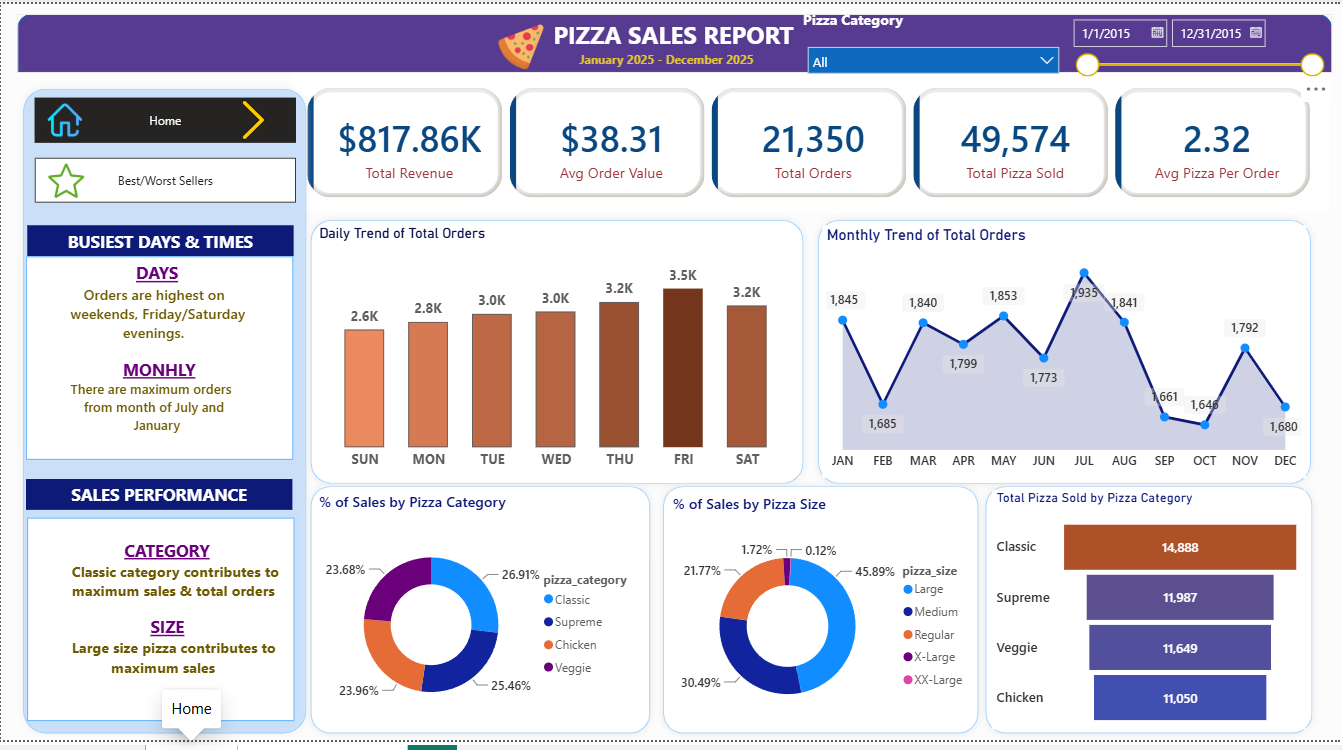

The dashboard page shown, as its layout file describes it:
{"tool":"powerbi","page":{"name":"Home","canvas":[1500,820],"ordinal":0},"visuals":[{"type":"cardVisual","fields":{"Data":["pizza_sales.Total Revenue","pizza_sales.Avg Order Value","pizza_sales.Total Orders","pizza_sales.Total Pizza Sold","pizza_sales.Avg Pizza Per Order"]},"box":[325,76.2,1155,156.2],"z":0},{"type":"shape","box":[17.5,11.2,1465,65],"z":1000},{"type":"textbox","box":[596.2,11.2,306.2,46.2],"z":2000},{"type":"textbox","box":[638.8,47.5,208.8,38.8],"z":3000},{"type":"image","box":[552.5,15,52.5,65],"z":4000},{"type":"shape","box":[337.5,232.5,565,310],"z":5000},{"type":"columnChart","title":"Daily Trend of Total Orders","fields":{"Category":["pizza_sales.Order Day"],"Y":["pizza_sales.Total Orders"]},"box":[349.6,246.5,539,281.3],"z":6000},{"type":"shape","box":[902.5,232.6,565,310],"z":7000},{"type":"shape","box":[17.1,85.7,331.4,734.3],"z":8000},{"type":"areaChart","title":"Monthly Trend of Total Orders","fields":{"Category":["pizza_sales.Order Month"],"Y":["pizza_sales.Total Orders"]},"box":[915,246.5,539,281.3],"z":9000},{"type":"shape","box":[337.1,528.6,394.3,291.4],"z":10000},{"type":"shape","box":[730,528.6,367.1,291.4],"z":11000},{"type":"shape","box":[1088.6,528.6,380,291.4],"z":12000},{"type":"donutChart","title":"% of Sales by Pizza Category","fields":{"Category":["pizza_sales.pizza_category"],"Y":["pizza_sales.Total Revenue"]},"box":[350,542.9,368.6,264.3],"z":13000},{"type":"donutChart","title":"% of Sales by Pizza Size","fields":{"Y":["pizza_sales.Total Revenue"],"Category":["pizza_sales.pizza_size"]},"box":[743.3,544.4,345.6,264.4],"z":14000},{"type":"funnel","title":"Total Pizza Sold by Pizza Category","fields":{"Category":["pizza_sales.pizza_category"],"Y":["pizza_sales.Total Pizza Sold"]},"box":[1104.4,542.2,348.9,266.7],"z":15000},{"type":"textbox","box":[28.9,246.7,296.7,34.4],"z":16000},{"type":"textbox","box":[27.8,281.1,297.8,226.7],"z":17000},{"type":"textbox","box":[28.9,572.2,297.8,226.7],"z":18000},{"type":"textbox","box":[27.8,528.9,296.7,34.4],"z":19000},{"type":"slicer","fields":{"Values":["pizza_sales.order_date"]},"box":[1182.9,7.1,300,74.3],"z":20000},{"type":"slicer","title":"Pizza Category","fields":{"Values":["pizza_sales.pizza_category"]},"box":[889,6,300,72],"z":21000},{"type":"pageNavigator","box":[37.1,104.3,291.4,50],"z":21001},{"type":"pageNavigator","box":[37.1,171.4,291.4,50],"z":21002},{"type":"image","box":[27.1,110,90,38.6],"z":21003},{"type":"image","box":[32.9,177.1,78.6,40],"z":21004},{"type":"image","box":[234.3,107.1,94.3,44.3],"z":21005}]}

Visuals, with their boxes on the page's 1500x820 design canvas (x1, y1, x2, y2). These are canvas units, not pixel positions in the 1342x750 screenshot, which may show the page scaled, cropped or inside an application window:
cardVisual - pizza_sales.Total Revenue x pizza_sales.Avg Order Value: (325, 76, 1480, 232)
shape: (18, 11, 1482, 76)
textbox: (596, 11, 902, 57)
textbox: (639, 48, 848, 86)
image: (552, 15, 605, 80)
shape: (338, 232, 902, 542)
"Daily Trend of Total Orders" columnChart: (350, 246, 889, 528)
shape: (902, 233, 1468, 543)
shape: (17, 86, 348, 820)
"Monthly Trend of Total Orders" areaChart: (915, 246, 1454, 528)
shape: (337, 529, 731, 820)
shape: (730, 529, 1097, 820)
shape: (1089, 529, 1469, 820)
"% of Sales by Pizza Category" donutChart: (350, 543, 719, 807)
"% of Sales by Pizza Size" donutChart: (743, 544, 1089, 809)
"Total Pizza Sold by Pizza Category" funnel: (1104, 542, 1453, 809)
textbox: (29, 247, 326, 281)
textbox: (28, 281, 326, 508)
textbox: (29, 572, 327, 799)
textbox: (28, 529, 324, 563)
slicer - pizza_sales.order_date: (1183, 7, 1483, 81)
"Pizza Category" slicer: (889, 6, 1189, 78)
pageNavigator: (37, 104, 328, 154)
pageNavigator: (37, 171, 328, 221)
image: (27, 110, 117, 149)
image: (33, 177, 112, 217)
image: (234, 107, 329, 151)
